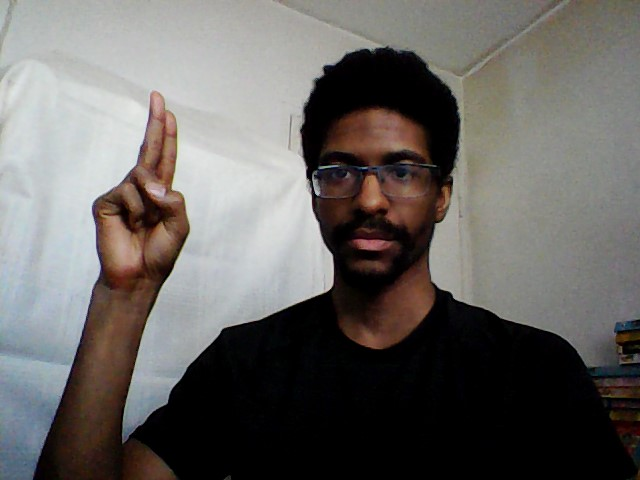u: (85, 86, 194, 296)
